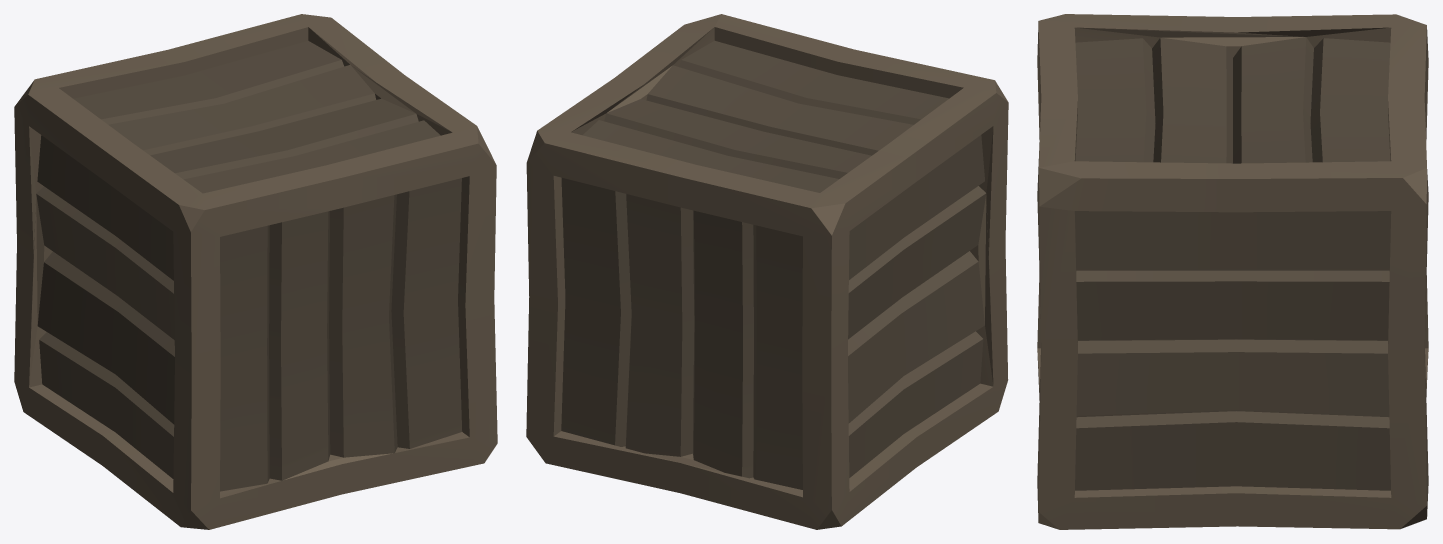
File: Cassa_Cubica.fbx
The picture shows the model from 3 angles, left to right: view 1: azimuth 30°, elevation 25°; view 2: azimuth 150°, elevation 25°; view 3: azimuth 270°, elevation 25°; orthographic projection. The views are drawn at different scales.
Parts seen in each view (by area): view 1: SM_Prop_Crate_01; view 2: SM_Prop_Crate_01; view 3: SM_Prop_Crate_01.
Boxes of the visible parts, x1,y1,x2,y2 form: SM_Prop_Crate_01: [14, 14, 497, 529]; SM_Prop_Crate_01: [526, 14, 1008, 529]; SM_Prop_Crate_01: [1037, 14, 1428, 529].
Size of the model in its own units: 84.41 by 84.41 by 84.41.
1 material, 1 textured.
